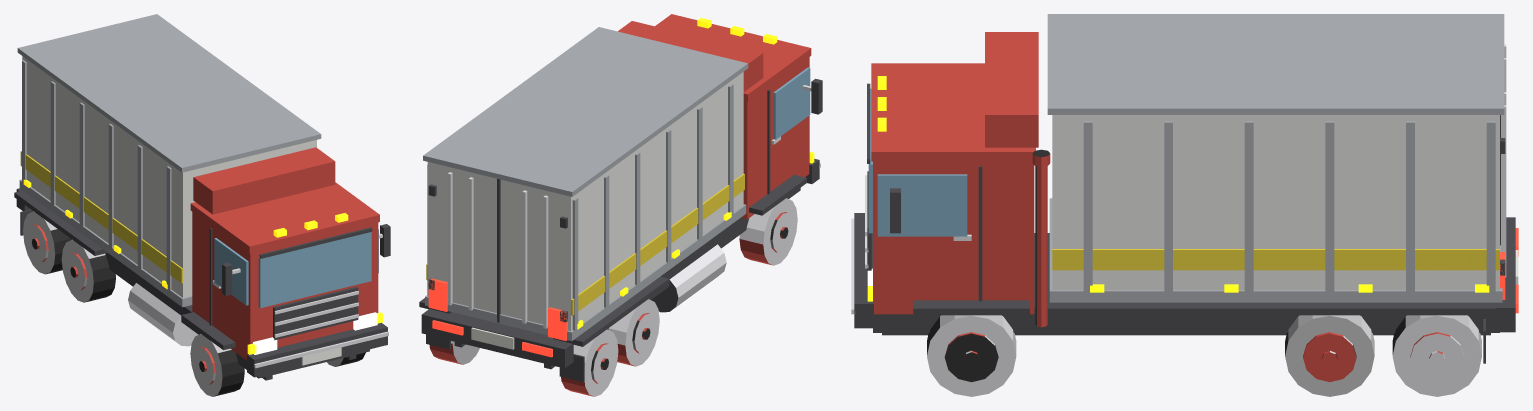
The model's file is truck.glb.
The picture shows the model from 3 angles, left to right: view 1: azimuth 30°, elevation 25°; view 2: azimuth 150°, elevation 25°; view 3: azimuth 270°, elevation 25°; orthographic projection. The views are drawn at different scales.
Parts seen in each view (by area): view 1: Truck; view 2: Truck; view 3: Truck.
Part boxes in pixels (x1,y1,x2,y2): Truck: (14,14,390,396); Truck: (419,14,822,396); Truck: (851,14,1518,396).
Bounding box in the file's own units: 2.96 × 3.53 × 7.46.
